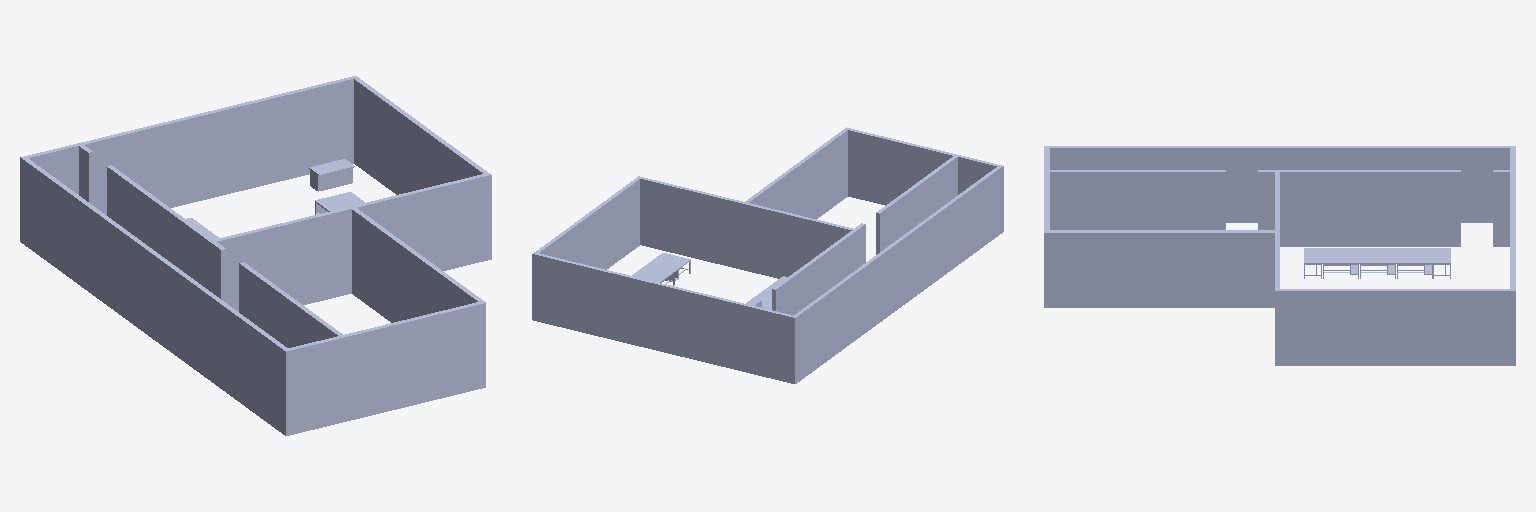
URDF robot description (swarm_gazebo):
<?xml version="1.0" encoding="utf-8"?>
<!-- This URDF was automatically created by SolidWorks to URDF Exporter! Originally created by [author] ([email redacted]) 
     Commit Version: 1.6.0-4-g7f85cfe  Build Version: 1.6.7995.38578
     For more information, please see http://wiki.ros.org/sw_urdf_exporter -->
<robot
  name="swarm_gazebo">
  <link
    name="base_link">
    <inertial>
      <origin
        xyz="5.85178704381779 -9.60012713785555 1.77710582206913"
        rpy="0 0 0" />
      <mass
        value="75086.6056000002" />
      <inertia
        ixx="3486735.77580997"
        ixy="-552845.119456796"
        ixz="-12.1878548712947"
        iyy="1963369.98309333"
        iyz="29.7403510295286"
        izz="5290843.83198998" />
    </inertial>
    <visual>
      <origin
        xyz="0 0 0"
        rpy="0 0 0" />
      <geometry>
        <mesh
          filename="package://swarm_gazebo/meshes/base_link.STL" />
      </geometry>
      <material
        name="">
        <color
          rgba="0.792156862745098 0.819607843137255 0.933333333333333 1" />
      </material>
    </visual>
    <collision>
      <origin
        xyz="0 0 0"
        rpy="0 0 0" />
      <geometry>
        <mesh
          filename="package://swarm_gazebo/meshes/base_link.STL" />
      </geometry>
    </collision>
  </link>
</robot>

--- Facts derived from the render (not from the file) ---
The picture shows the robot from 3 angles, left to right: view 1: azimuth 30°, elevation 25°; view 2: azimuth 150°, elevation 25°; view 3: azimuth 270°, elevation 25°; orthographic projection.
Robot: swarm_gazebo — 1 links, 0 joints (none); root link base_link; default pose: all joints at 0.
Links seen in each view (by area): view 1: base_link; view 2: base_link; view 3: base_link.
Boxes of the visible links, x1,y1,x2,y2 form: base_link: (20, 76, 491, 435); base_link: (532, 127, 1003, 383); base_link: (1044, 146, 1515, 365).
Bounding box of the posed robot: 14.91 × 20.44 × 3.6 m (x, y, z).
Meshes: 1 distinct files referenced, 1 mesh visuals loaded (1 binary STL).